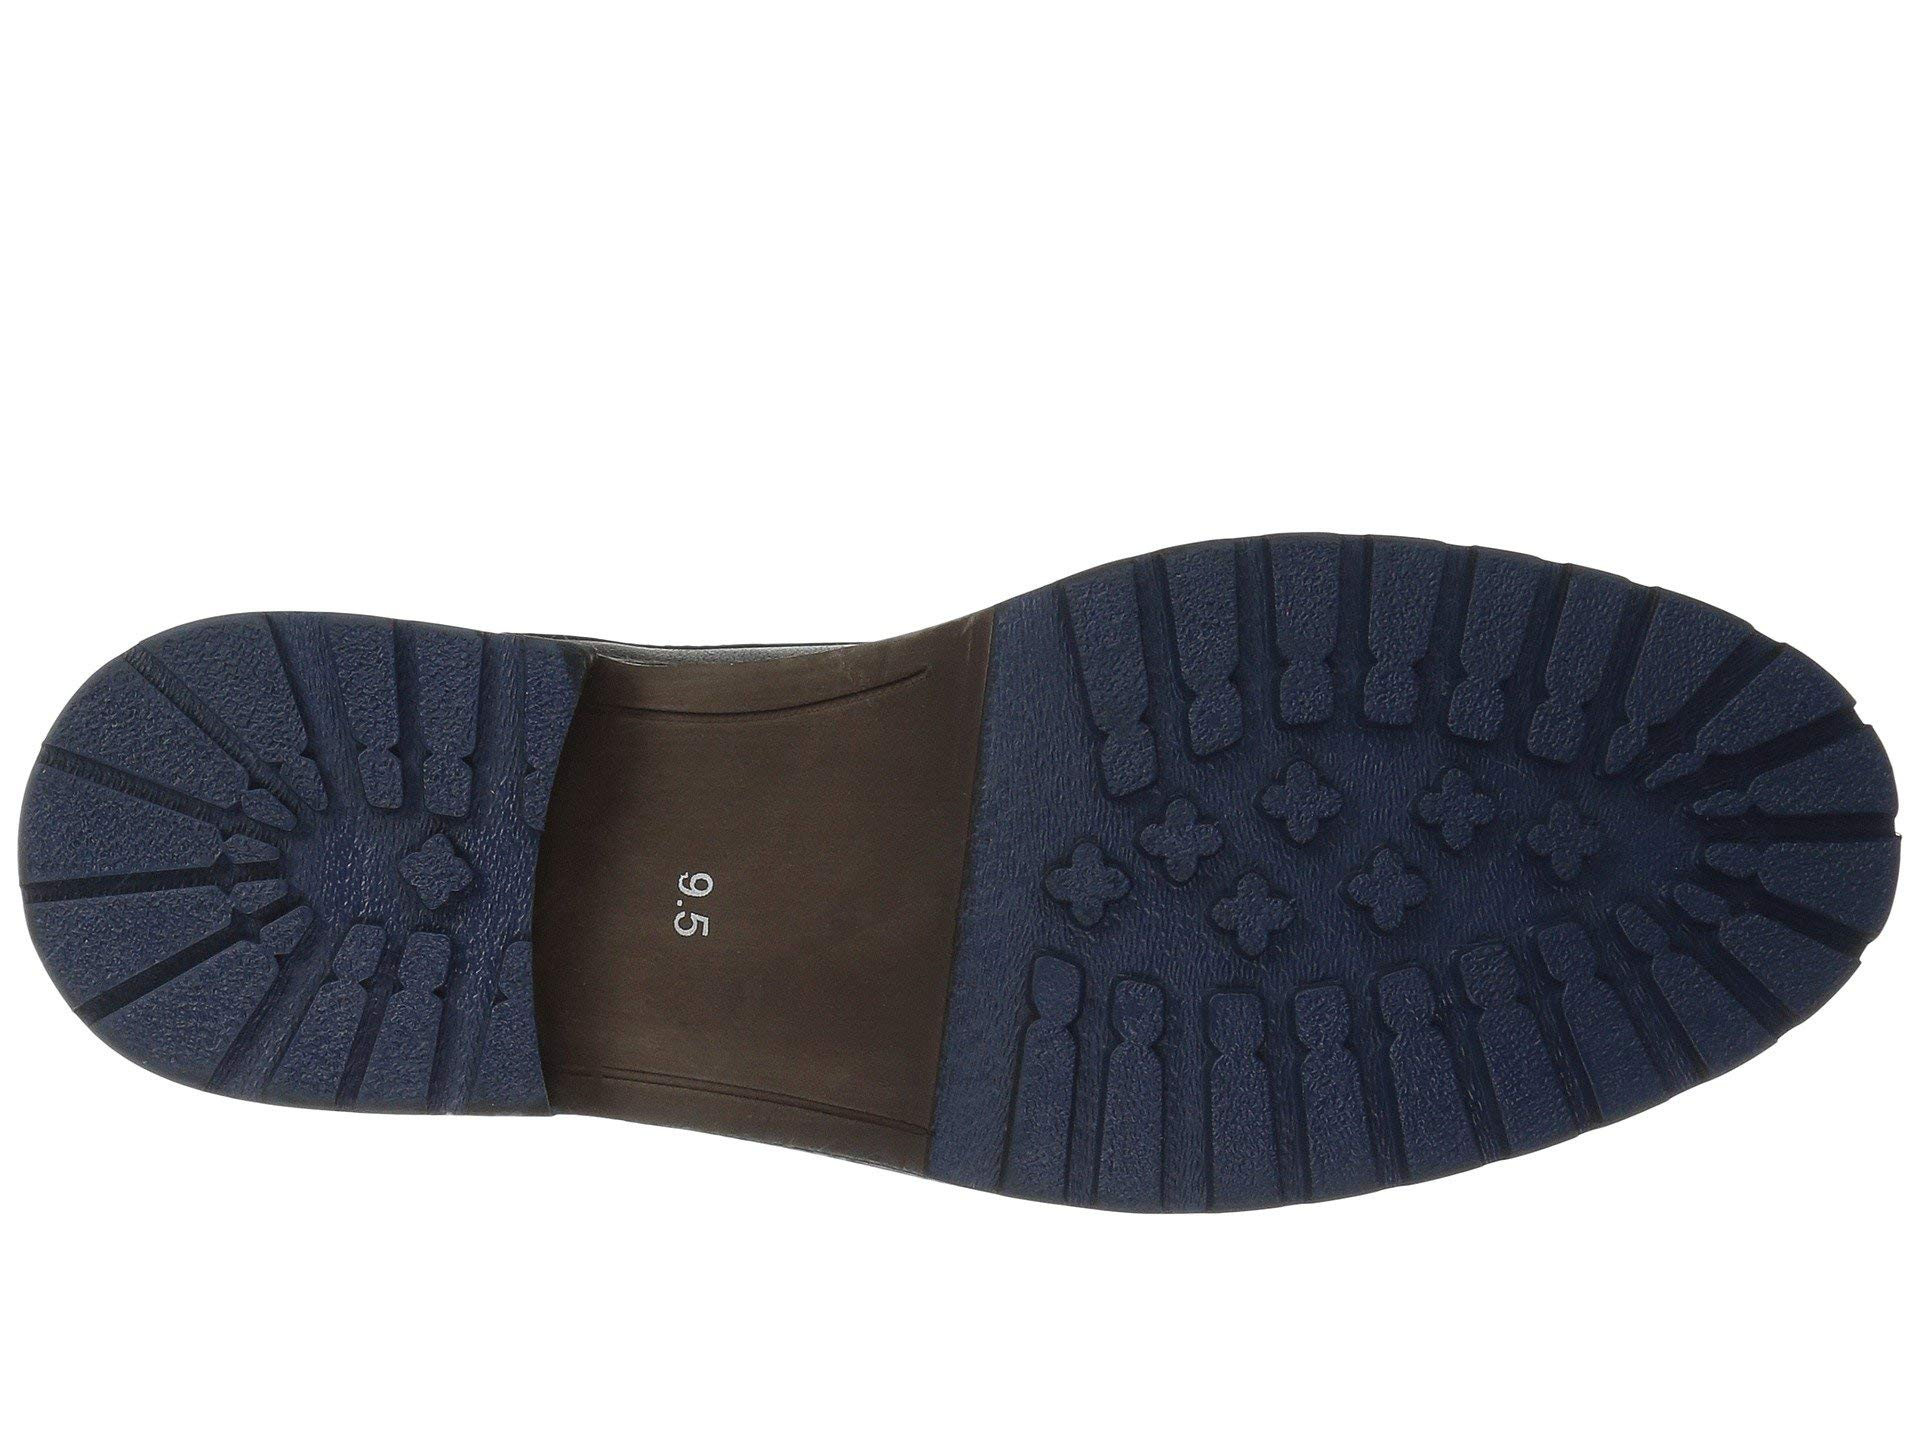star: (1262, 731, 1515, 973), (1023, 743, 1243, 998), (393, 811, 503, 933)
